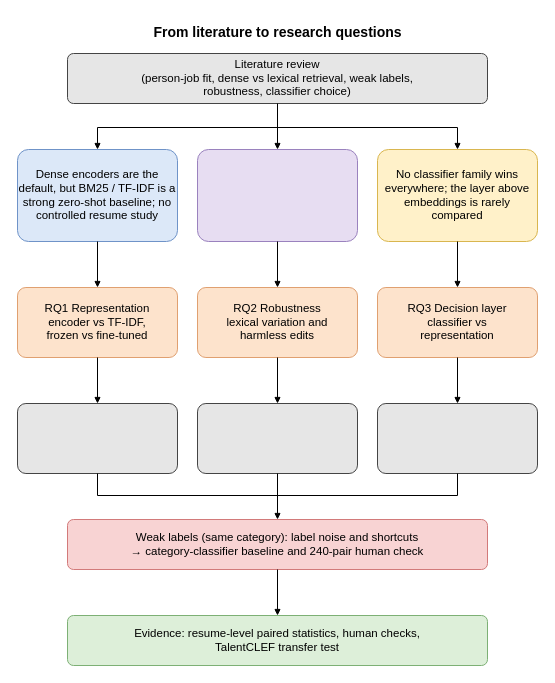
Image size: 555x683. Some labels were removed from this diagram. Here are the shapes that lost their labels. From the top down, the centre of each, then its label:
At [277,195]: "Dense models are fragile to typos and input perturbations; resumes are noisy".
At [97,438]: "Frozen and fine-tuned encoders, unseen categories, full pool".
At [277,438]: "ESCO synonyms, typos, sentence order, LLM rewrite, CheckList".
At [457,438]: "8 tuned classifiers, complete pipelines, full pool".
